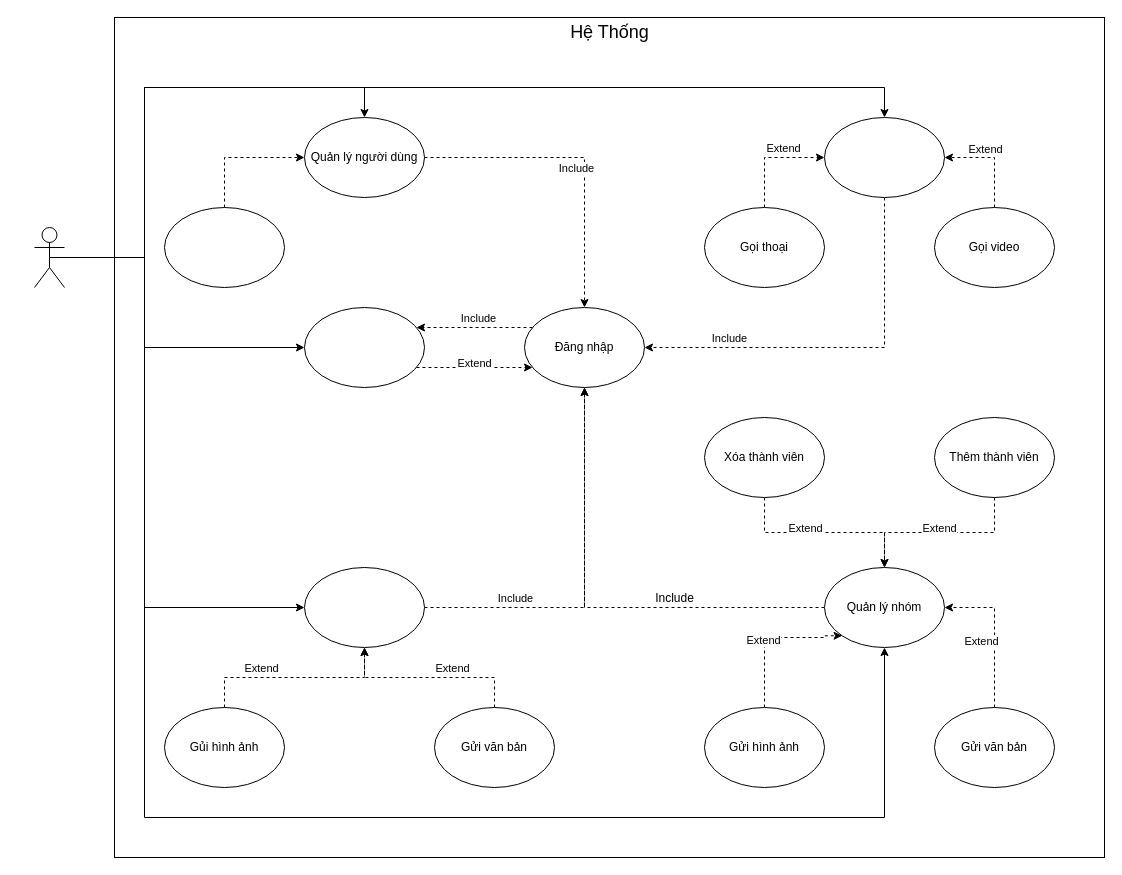
This 1122x875 diagram has some shape labels left out. Each missing label, with the centre of its shape:
Gọi người dùng: point (884, 157)
Người dùng: point (49, 257)
Nhắn tin cá nhân: point (364, 607)
Tìm kiếm người dùng: point (224, 247)
Đăng ký: point (364, 347)
